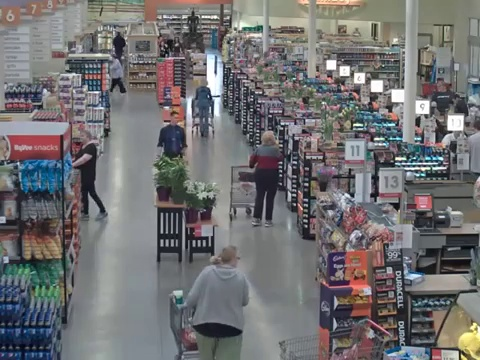face: (79, 132, 89, 142), (172, 114, 179, 124)
